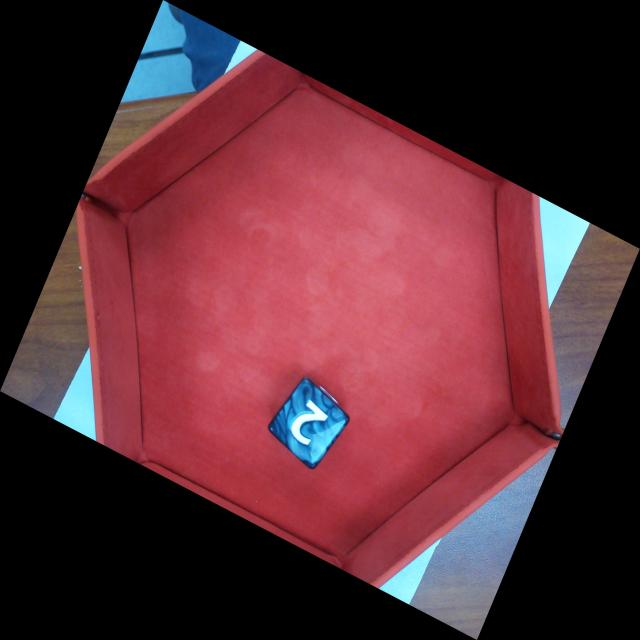dice: (272, 384, 343, 466)
